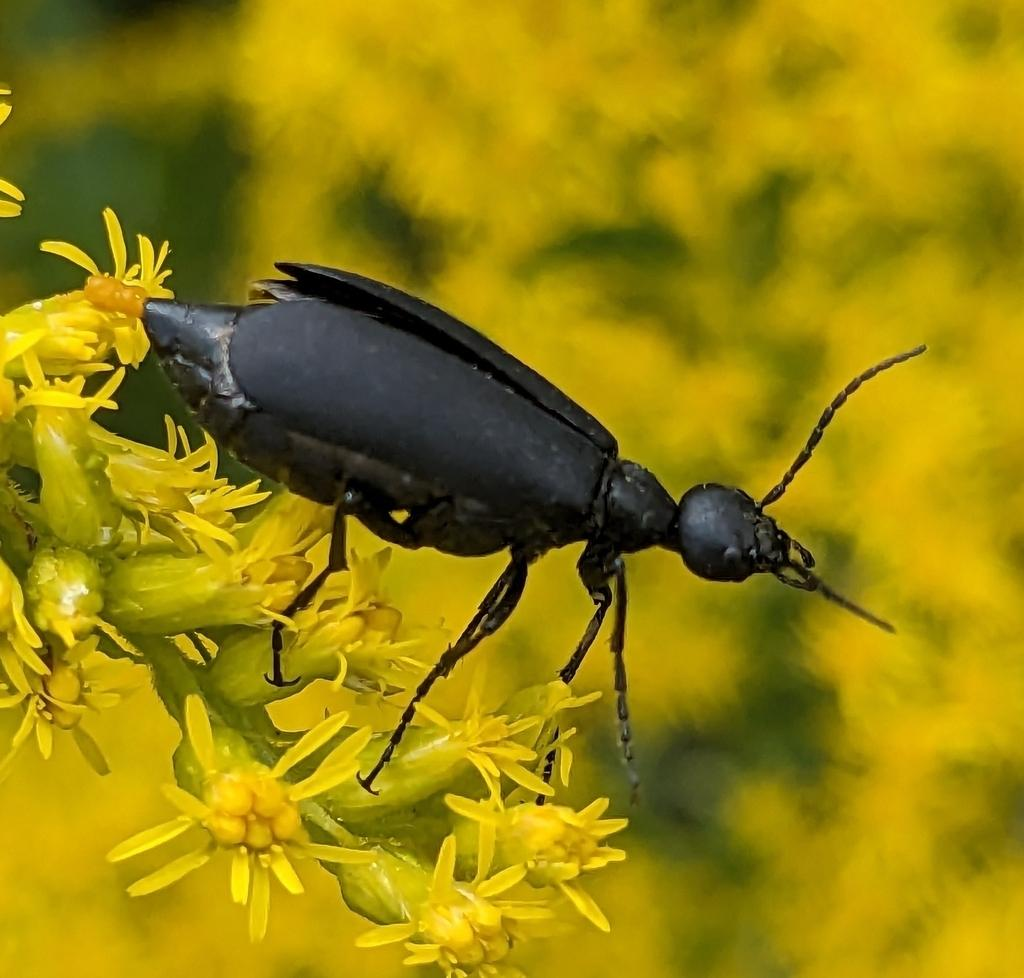blister_beetle: (63, 109, 1024, 886)
